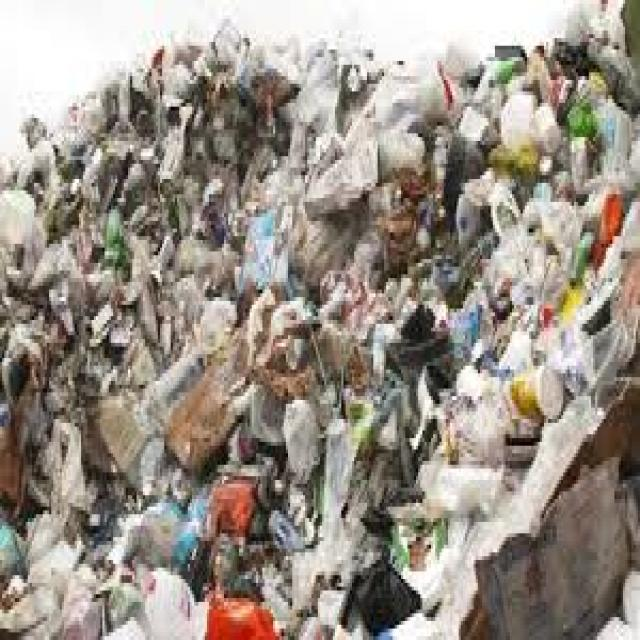plastic: (93, 119, 615, 592)
